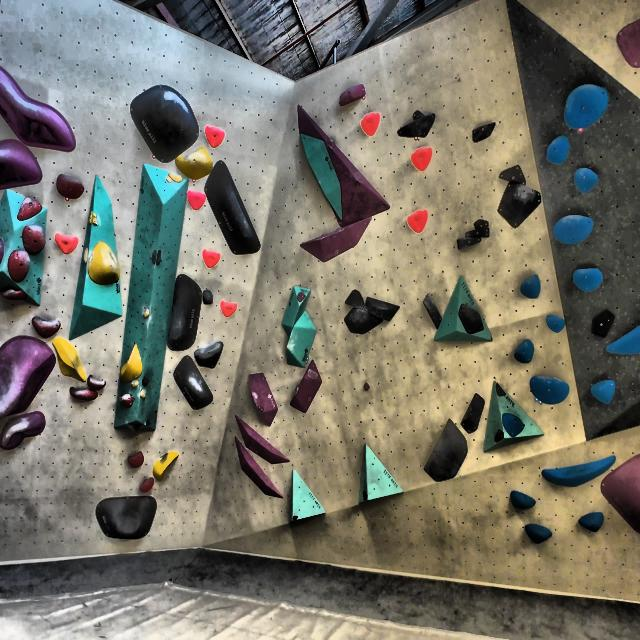Hold: (292, 98, 393, 223), (0, 57, 78, 151), (126, 78, 202, 166), (205, 158, 262, 258), (0, 337, 57, 412), (296, 223, 386, 261), (234, 440, 287, 500), (601, 454, 638, 537), (95, 497, 158, 543), (425, 418, 464, 489), (543, 450, 614, 488), (167, 275, 200, 353), (172, 355, 214, 414), (234, 418, 292, 460), (562, 81, 608, 130), (0, 138, 43, 189), (290, 351, 324, 414), (499, 182, 544, 229), (247, 373, 283, 428), (0, 413, 50, 450), (524, 377, 579, 410), (552, 213, 600, 249), (603, 322, 640, 363), (52, 337, 86, 380), (87, 242, 120, 285), (456, 217, 492, 253), (176, 146, 213, 181), (396, 108, 437, 138), (120, 342, 145, 389), (418, 294, 447, 333), (457, 299, 485, 339), (366, 292, 403, 322), (590, 377, 623, 408), (546, 134, 576, 168), (462, 392, 485, 434), (523, 518, 554, 548), (570, 266, 603, 293), (32, 313, 65, 340), (196, 341, 227, 368), (338, 80, 371, 105), (409, 142, 433, 176), (345, 310, 376, 336), (589, 303, 612, 338), (502, 409, 528, 439), (514, 333, 536, 368), (23, 224, 48, 254), (16, 193, 43, 220), (576, 164, 600, 194), (155, 454, 179, 484), (8, 248, 29, 282), (58, 172, 84, 199), (495, 162, 526, 184), (51, 230, 79, 254), (520, 272, 543, 300), (408, 208, 430, 237), (544, 309, 568, 335), (204, 123, 229, 147), (579, 509, 604, 532), (470, 120, 497, 141), (362, 111, 382, 139), (200, 246, 223, 270), (507, 488, 536, 507), (69, 386, 100, 403), (342, 287, 365, 309), (187, 188, 206, 213), (218, 297, 238, 319), (2, 288, 28, 302), (162, 170, 184, 186), (126, 452, 144, 471), (136, 478, 160, 492), (149, 246, 164, 267), (88, 374, 109, 389), (496, 376, 508, 399), (200, 289, 214, 306), (120, 392, 134, 409), (494, 428, 505, 448), (298, 288, 309, 306), (129, 422, 144, 434), (140, 308, 154, 320), (87, 212, 98, 226), (141, 373, 151, 388), (141, 389, 148, 402), (130, 379, 139, 389)
